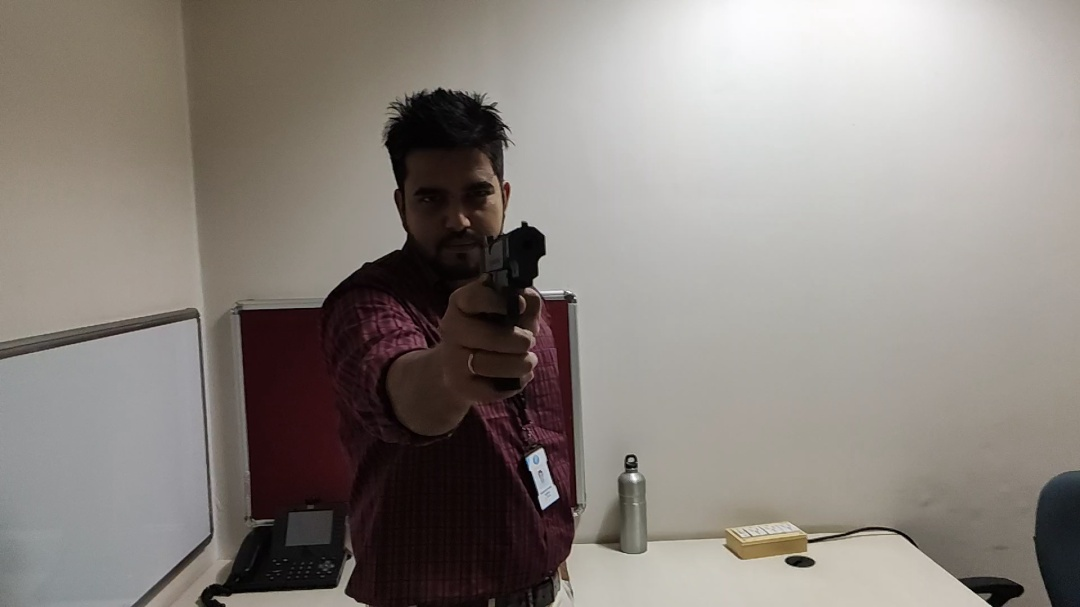gun: (472, 218, 557, 401)
